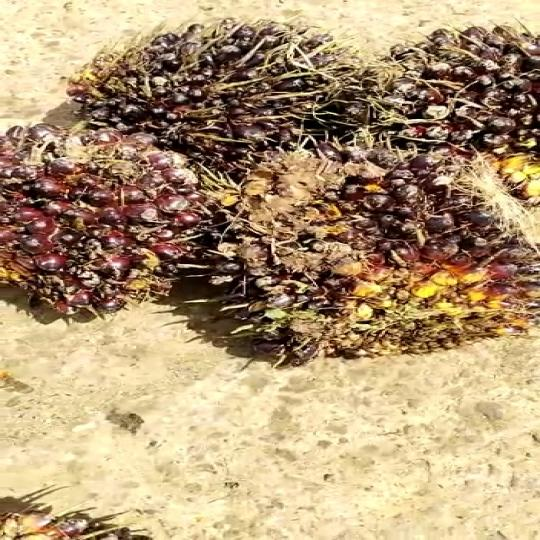kurang masak: (199, 164, 529, 384), (0, 113, 196, 341), (74, 24, 374, 147), (381, 19, 540, 178)
